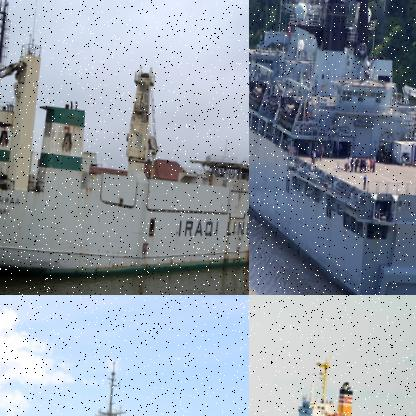Merchant Ship: (249, 329, 380, 415)
Military Ship: (0, 0, 248, 294), (249, 0, 415, 294), (0, 341, 245, 415)
